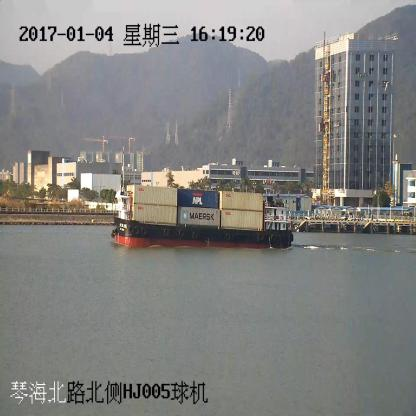Container Ship: (111, 184, 293, 249)
